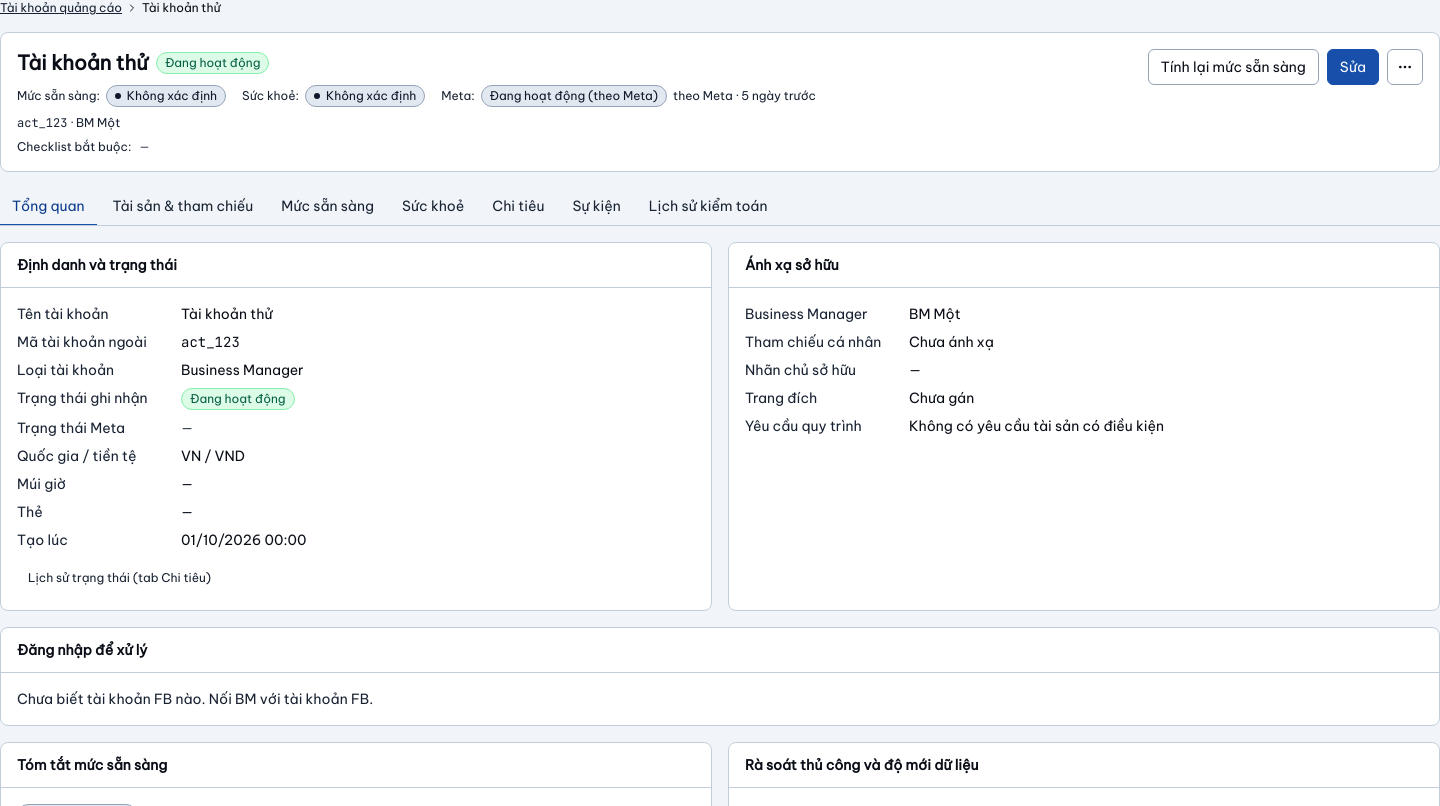
Test: Archive and restore use an AlertDialog, not window.confirm › puts focus on the safe action, cancels with the button and with Esc, writing nothing
The width and height of the screenshot is (1440, 806).
Expected: the heading "Tài khoản thử" is shown, [17,49,148,77]
Click the button named "Thêm hành động": (1405, 67) [1387,49,1423,85]
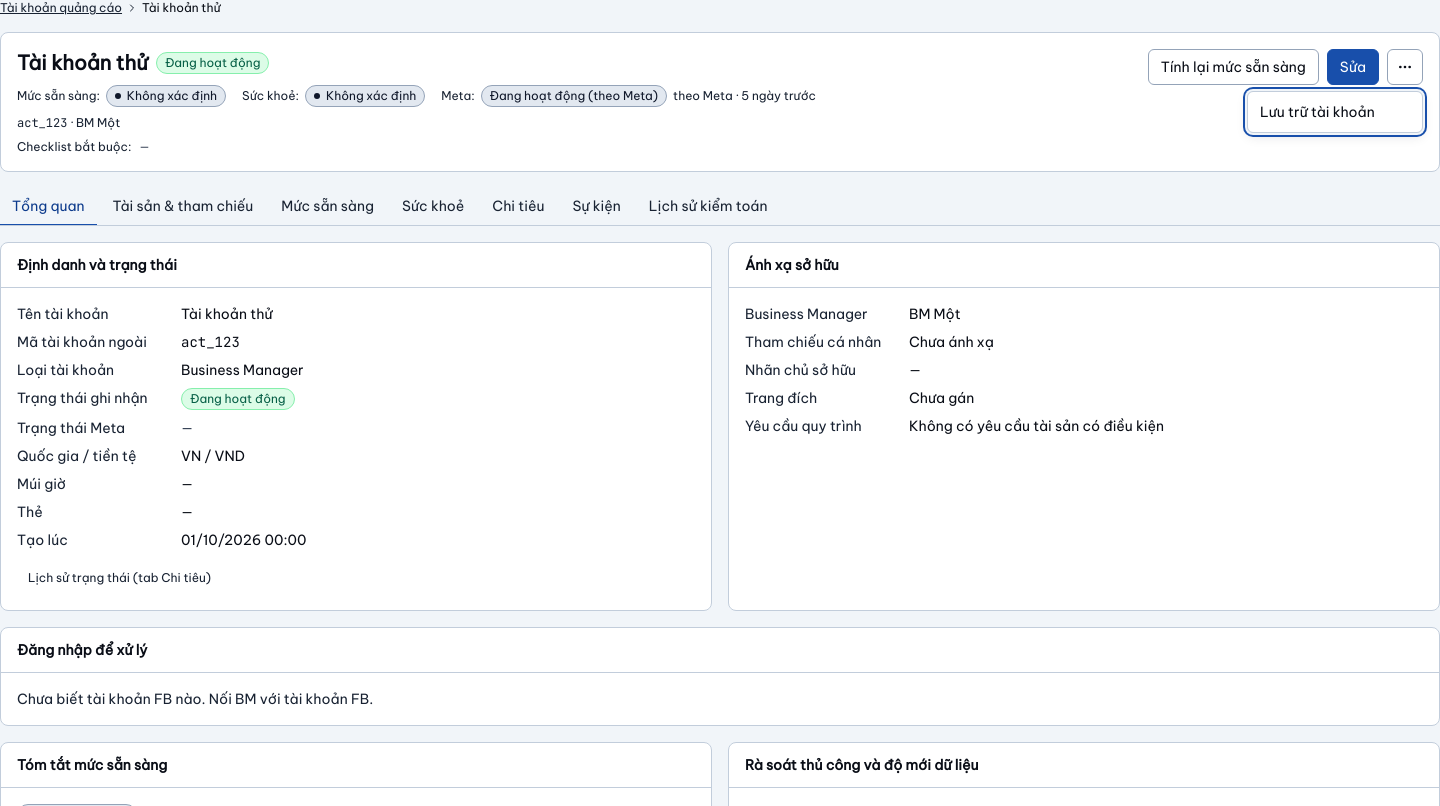
Click the menu item "Lưu trữ tài khoản": (1317, 112) [1260,103,1375,121]
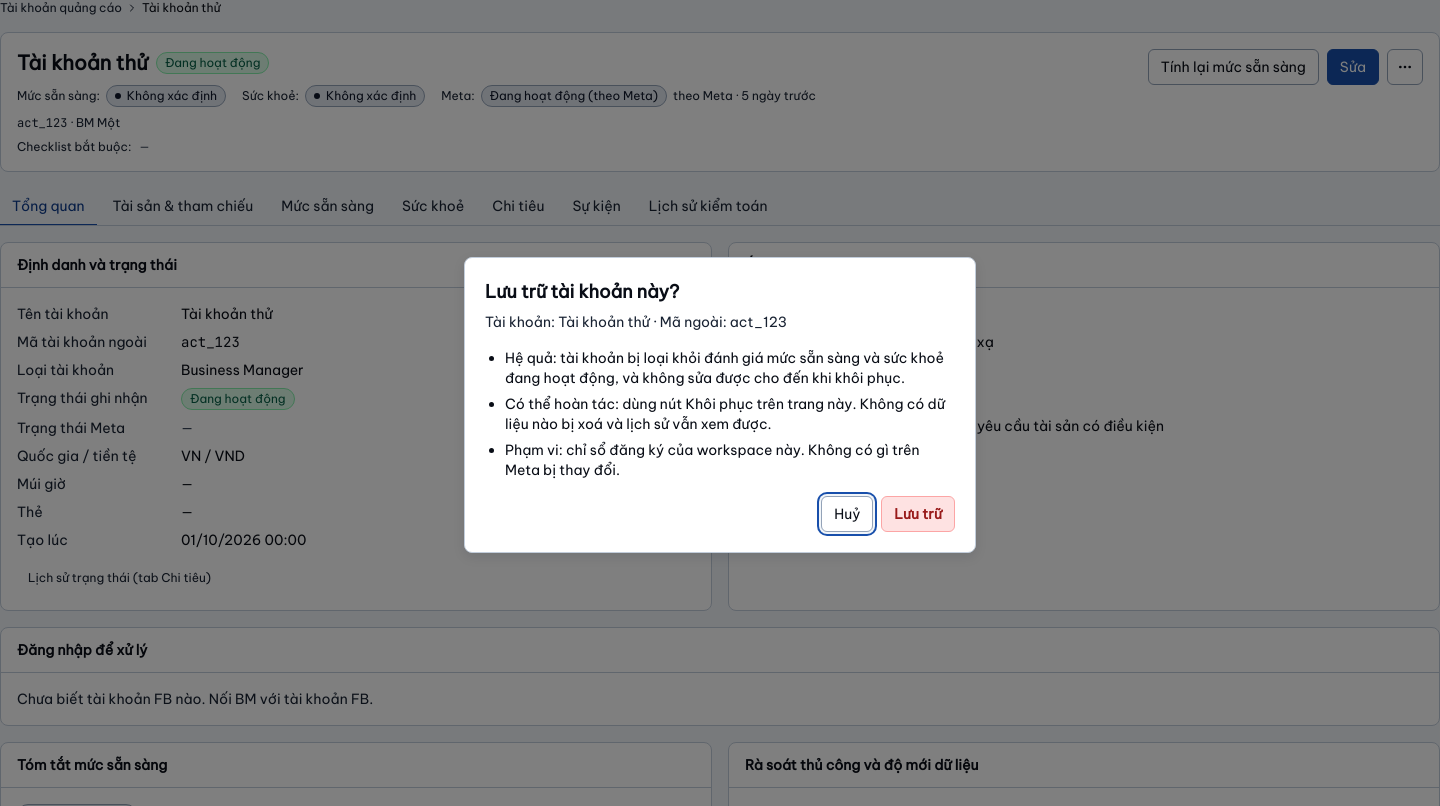
Click the button "Huỷ": (847, 514) [821,496,873,532]
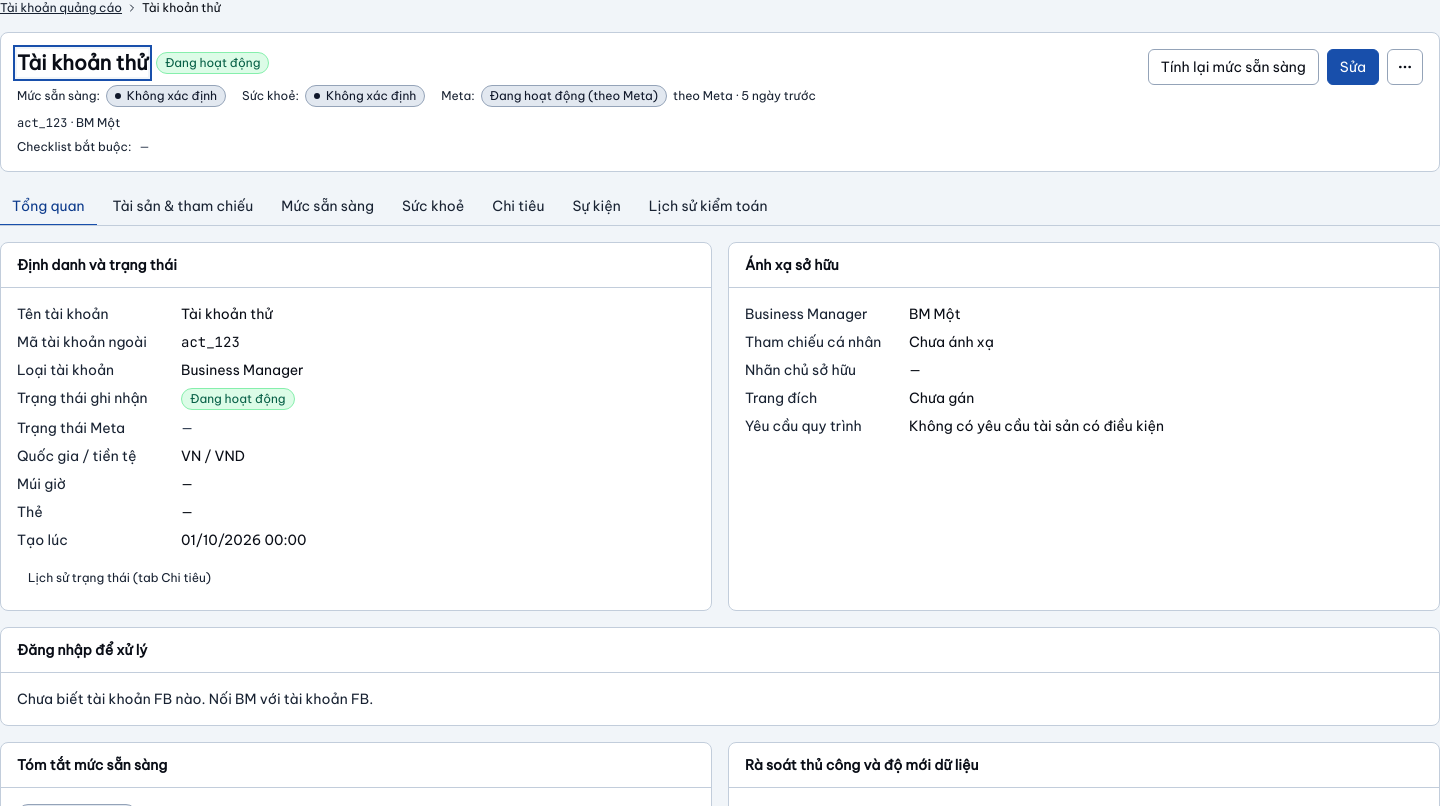
Expected: the heading "Tài khoản thử" is shown, [17,49,148,77]
Result: the dialog is gone
Click the button named "Thêm hành động": (1405, 67) [1387,49,1423,85]
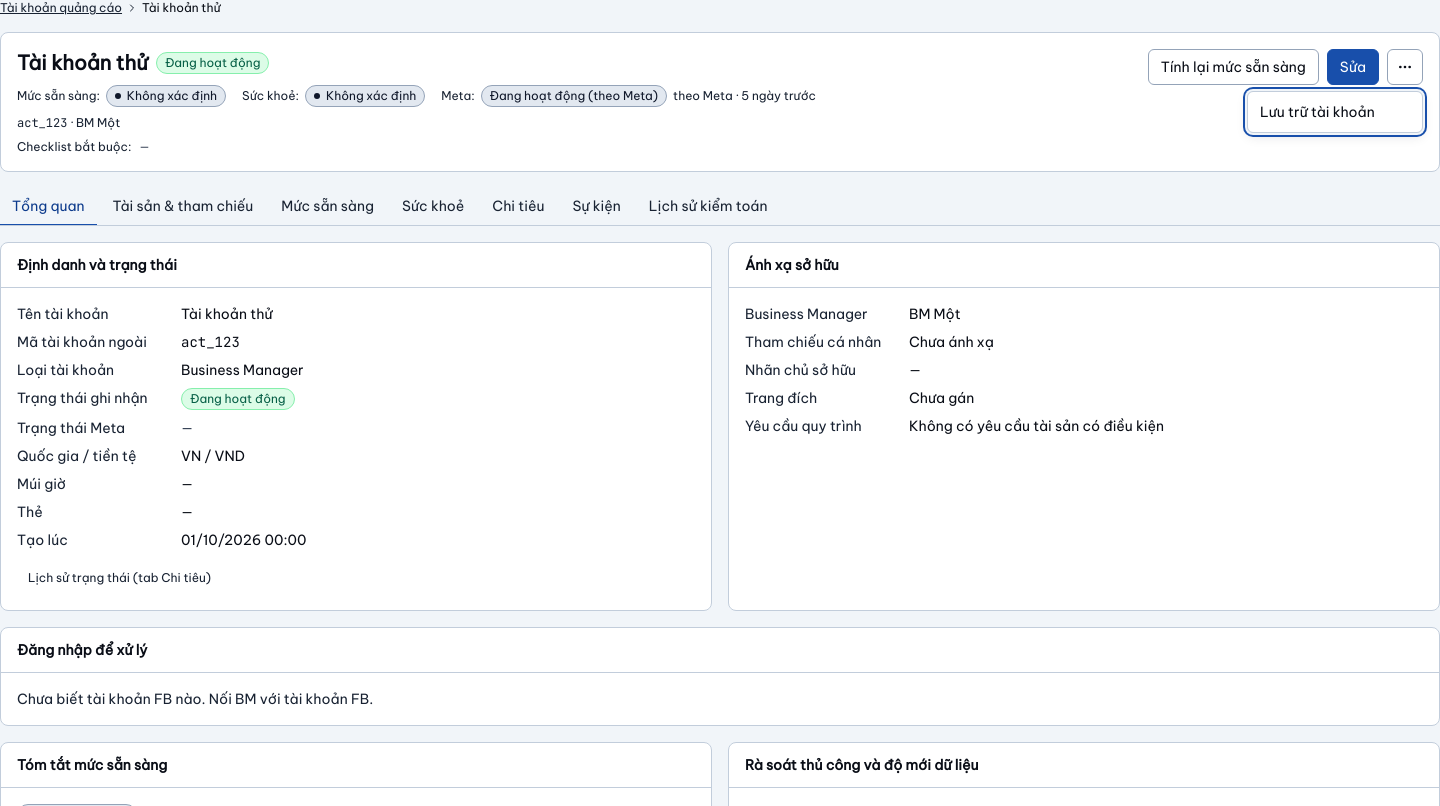
Click the menu item "Lưu trữ tài khoản": (1317, 112) [1260,103,1375,121]
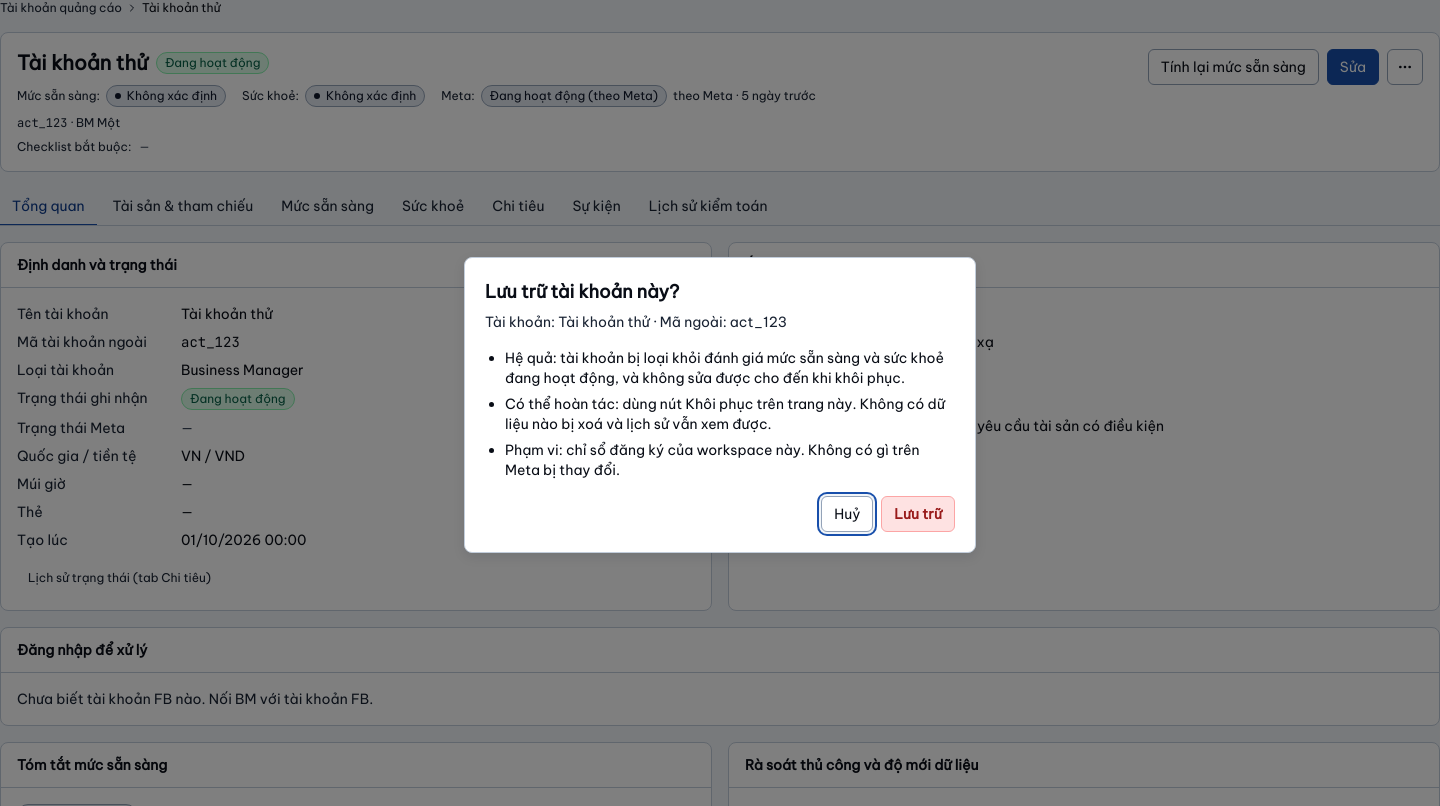
Press Escape
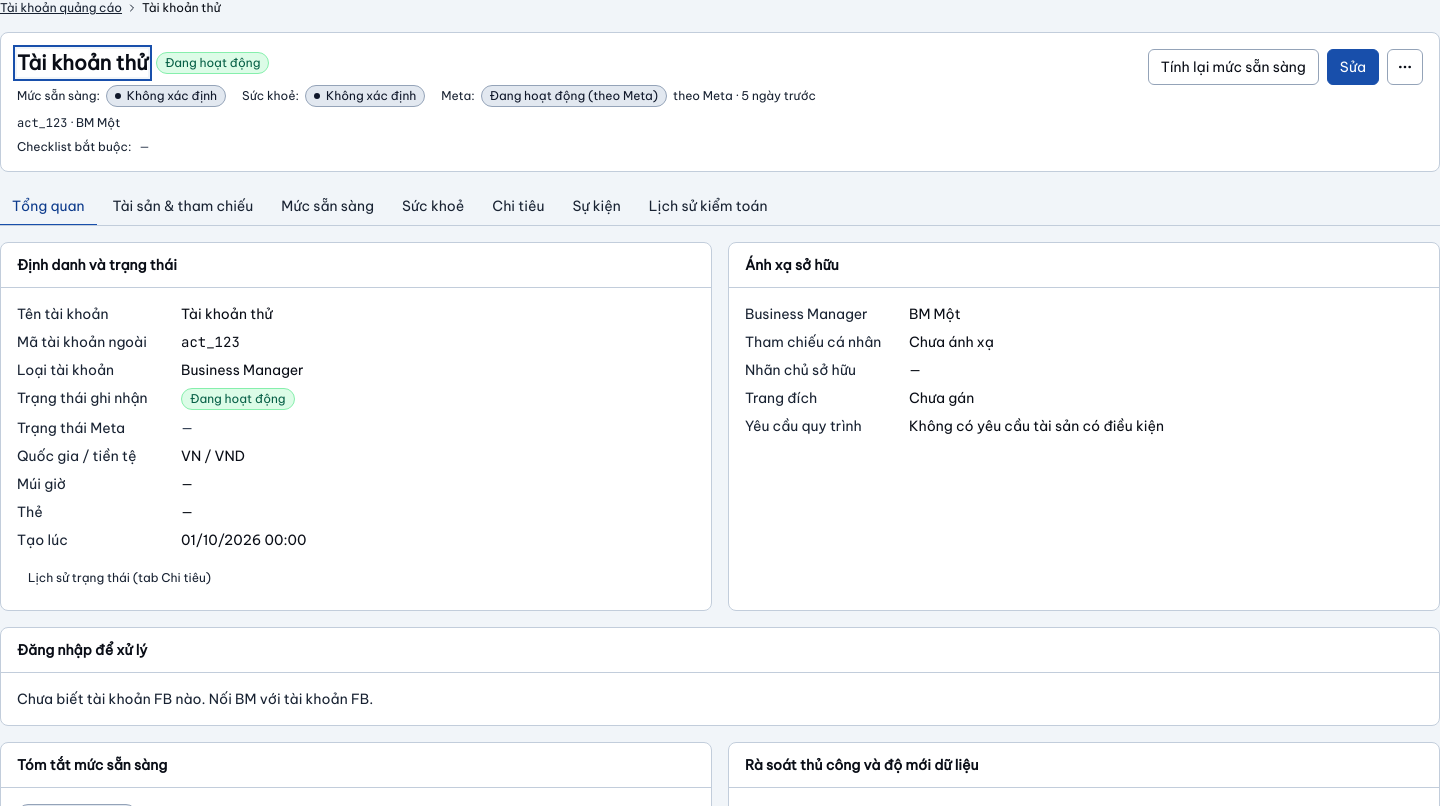
Result: the dialog is gone
